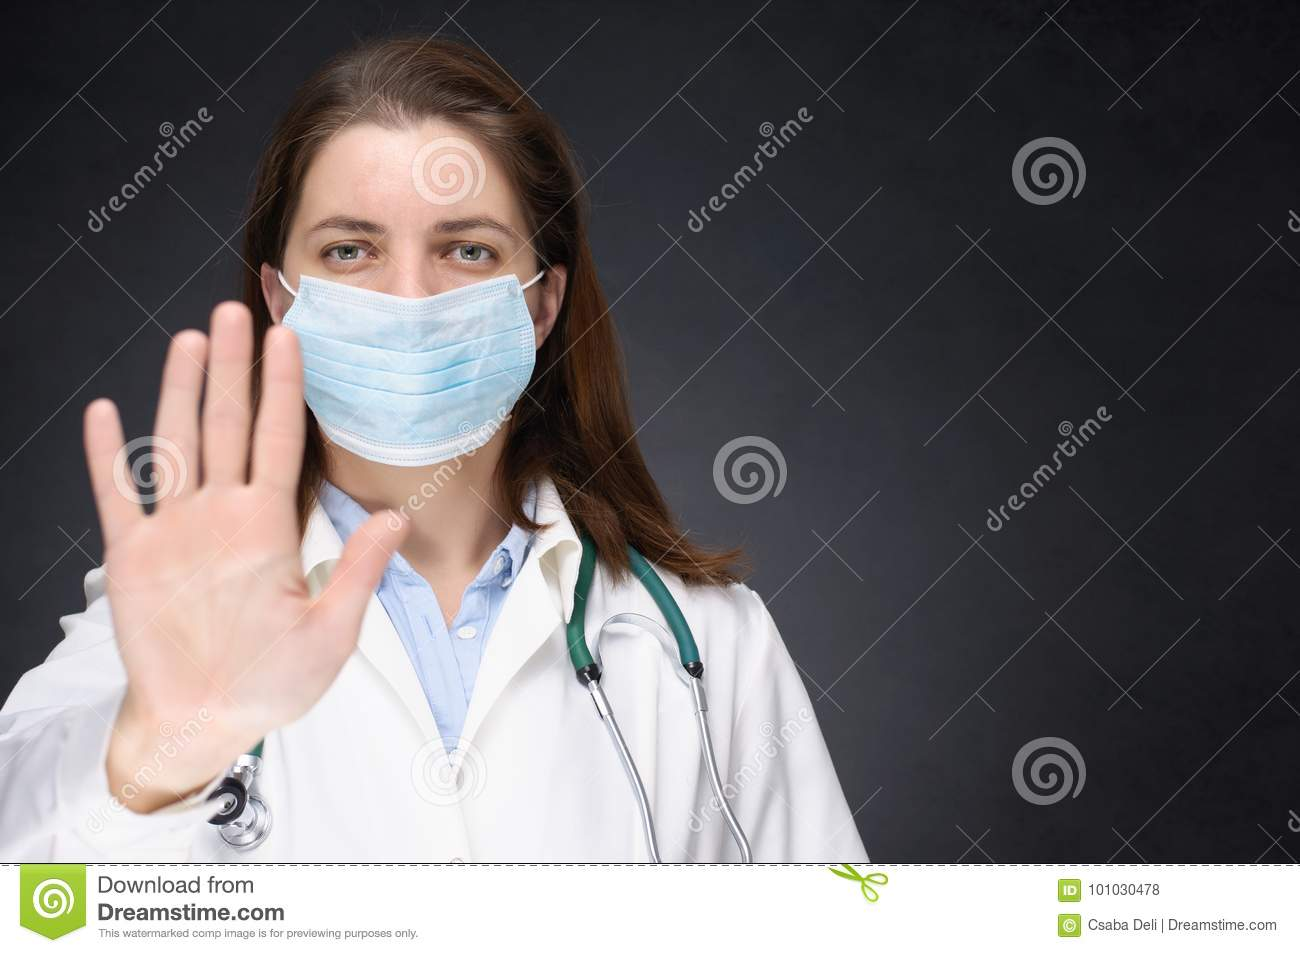mask: (284, 280, 537, 473)
